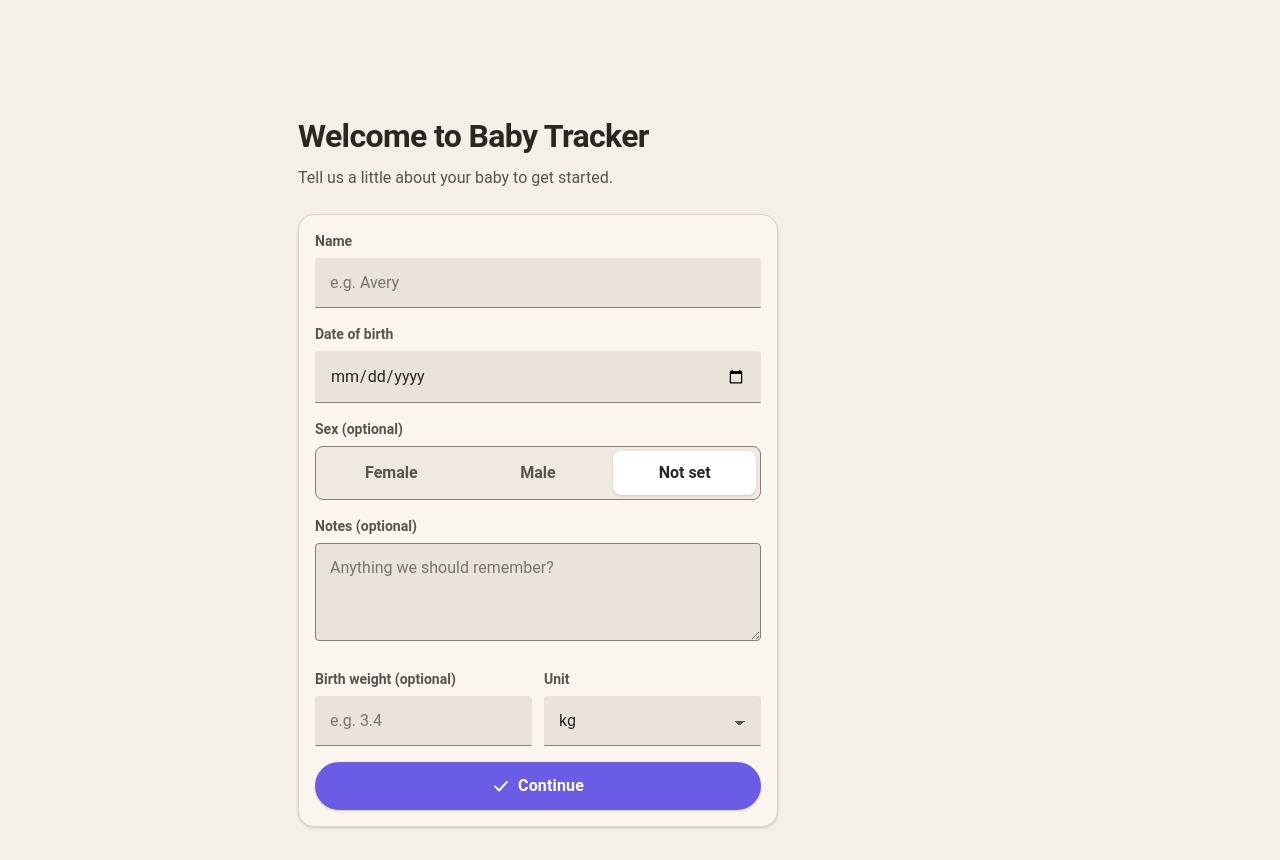
Test case: Sleep screen wake-window line between naps › shows the day wake windows for a past day (after waking, between naps, before bed)
Type "Avery" into the field labelled "Name" at (538, 283), box [315,258,761,308]
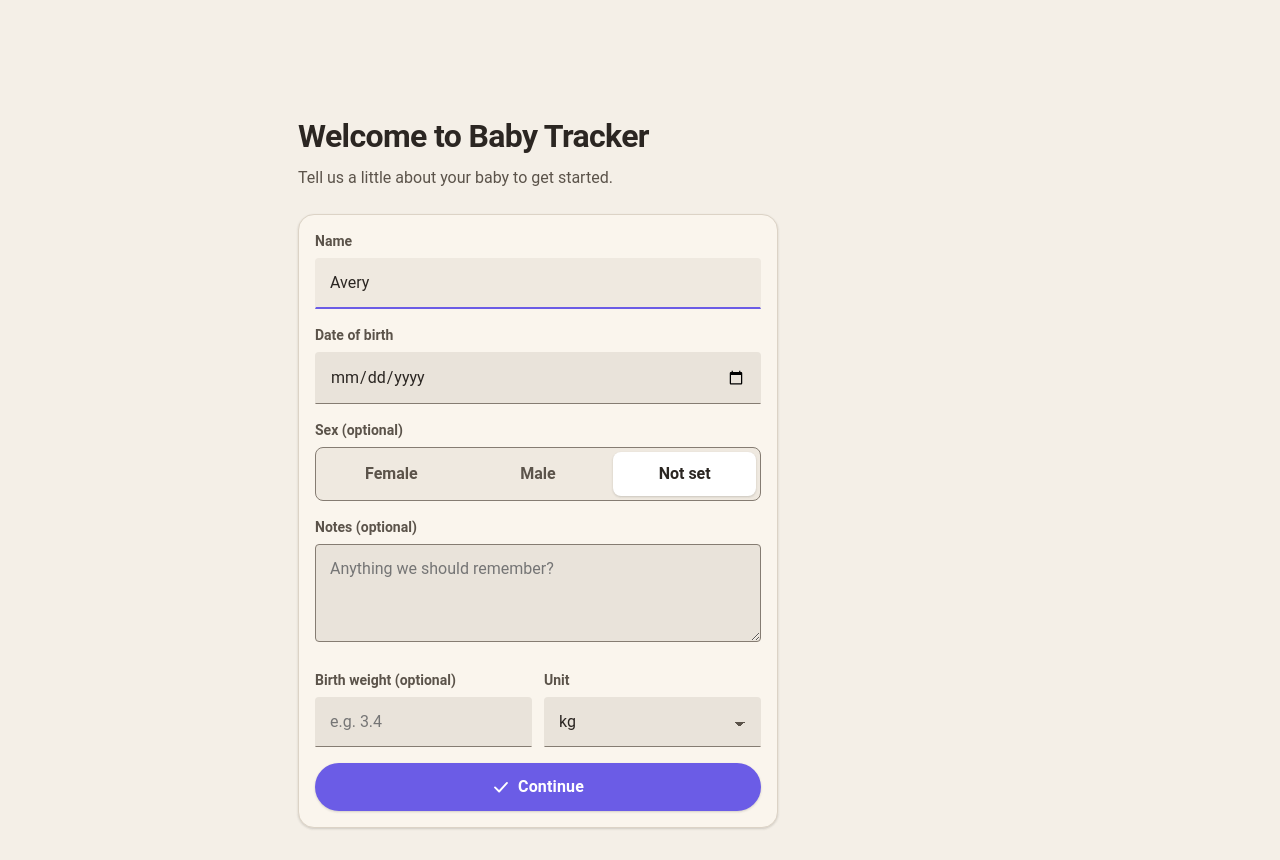
Type "2026-01-15" into the date field labelled "Date of birth" at (538, 378), box [315,352,761,404]
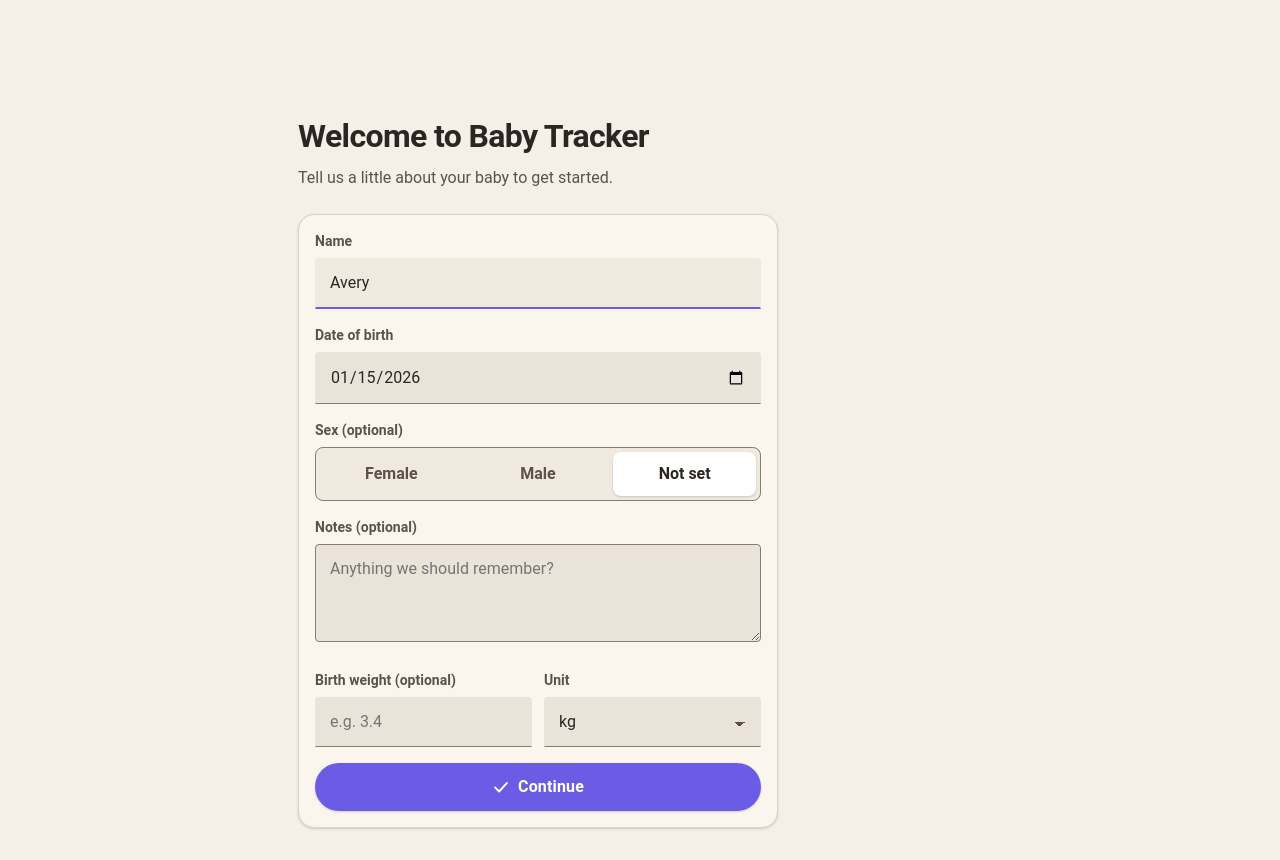
Click the button "Continue" at (538, 787), box [315,763,761,811]
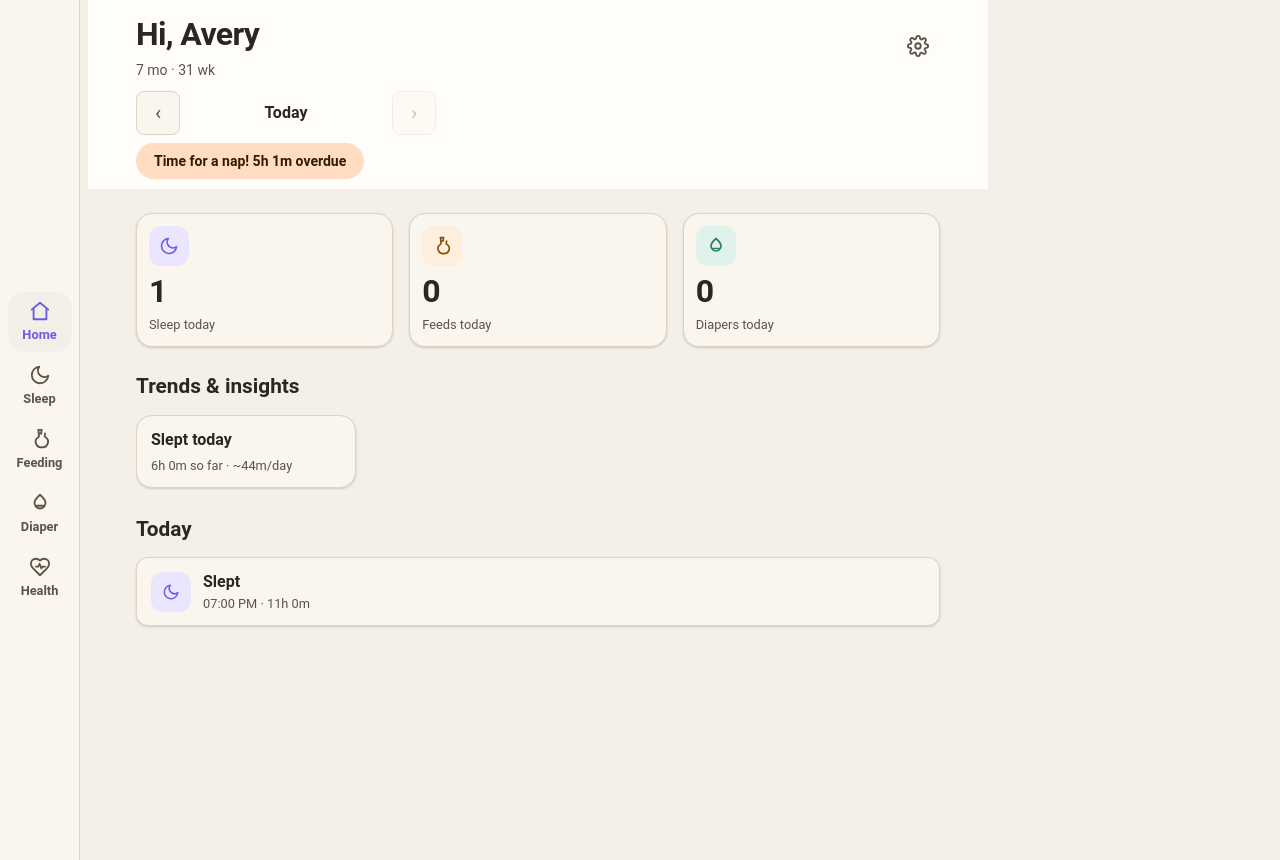
Click the button "Sleep" at (40, 386), box [8,356,72,416]
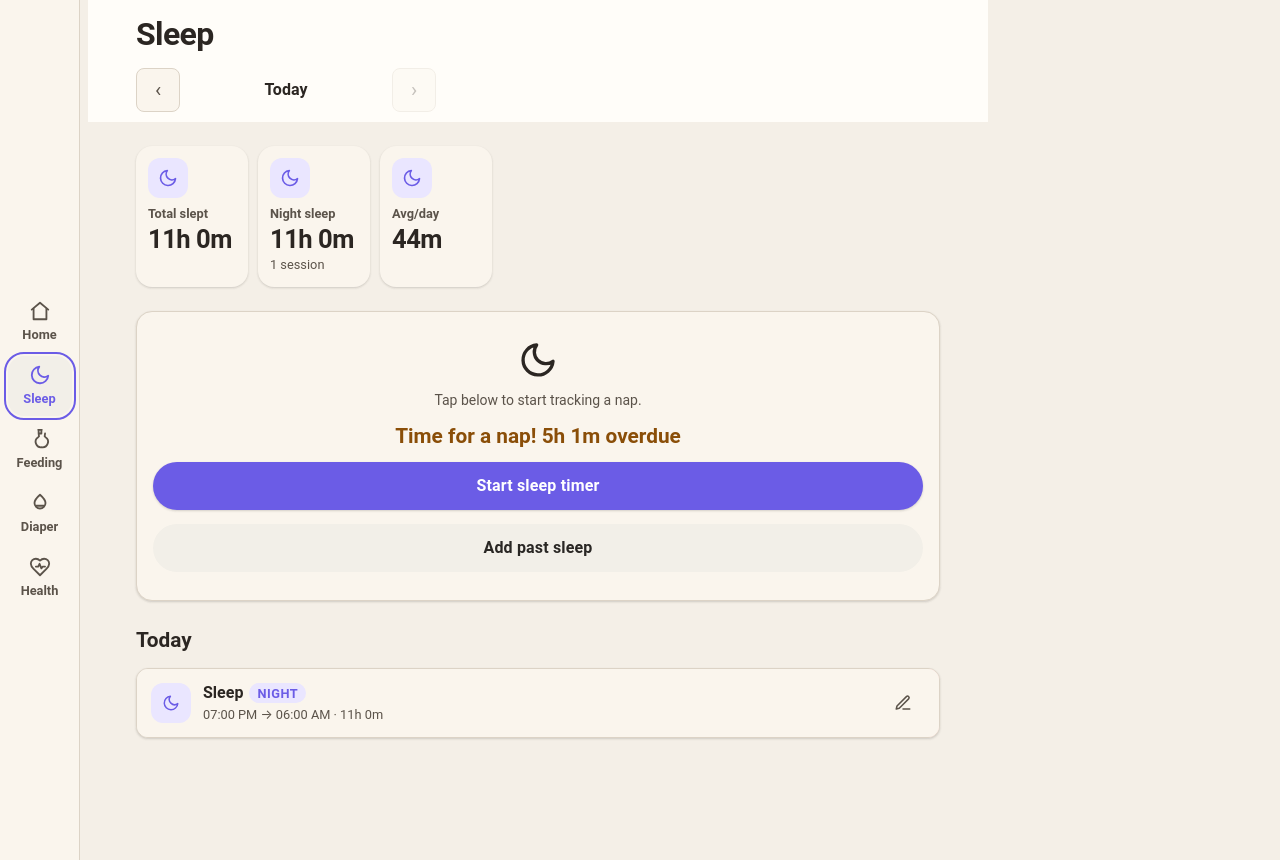
Click the button named "previous day" at (158, 90), box [136,68,180,112]
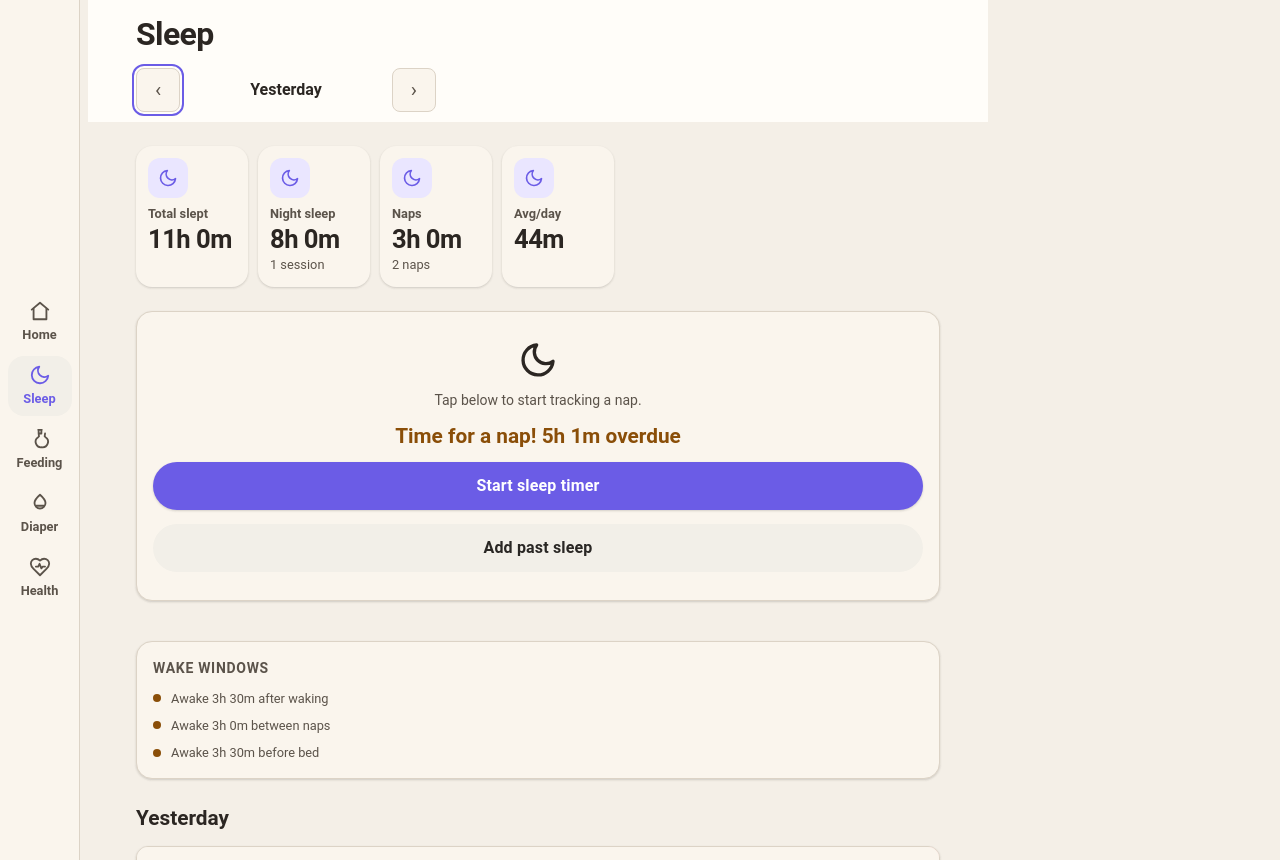
Expected: the element "Wake windows" shows "Awake 3h 30m after waking", [171,691,329,706]
Expected: the element "Wake windows" shows "Awake 3h 0m between naps", [171,718,330,733]
Expected: the element "Wake windows" shows "Awake 3h 30m before bed", [171,745,319,760]
